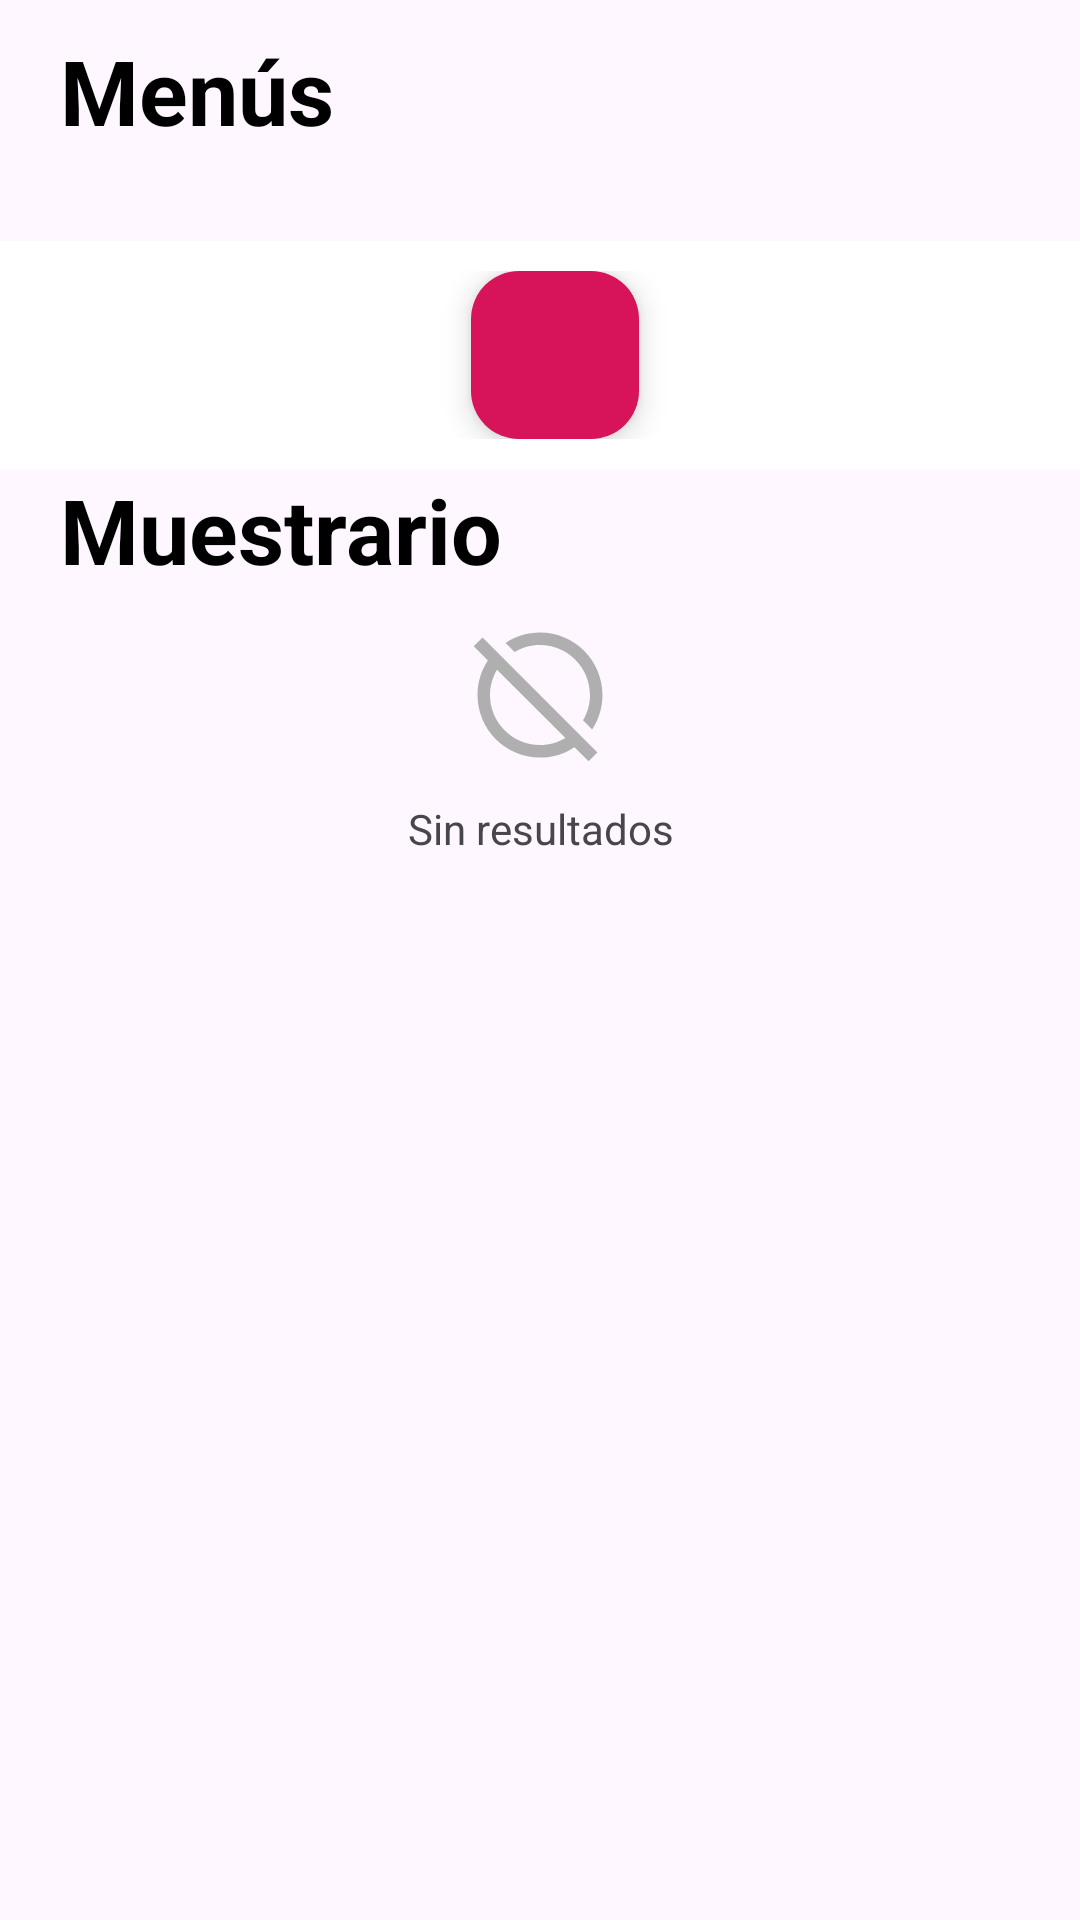

Screen size 1080w x 1920h. Icon name, then its center in pixels as point (x, y):
vacio: point (538, 696)
